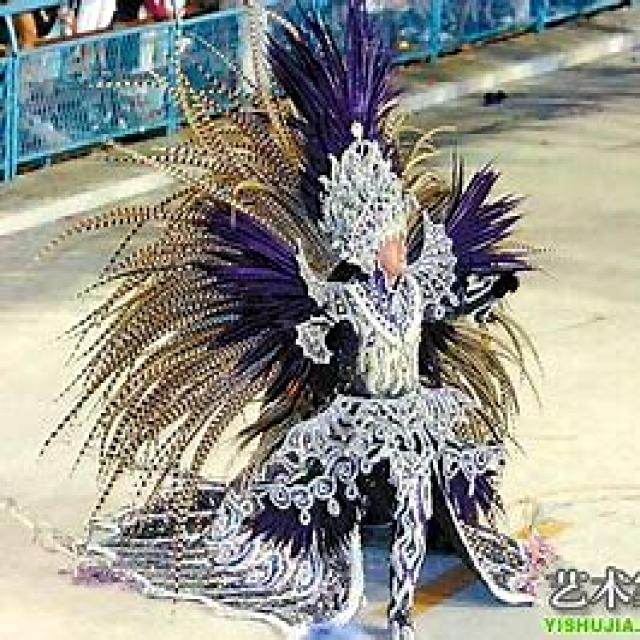Phasianus Colchicus: (173, 361, 280, 610), (90, 391, 199, 525)
